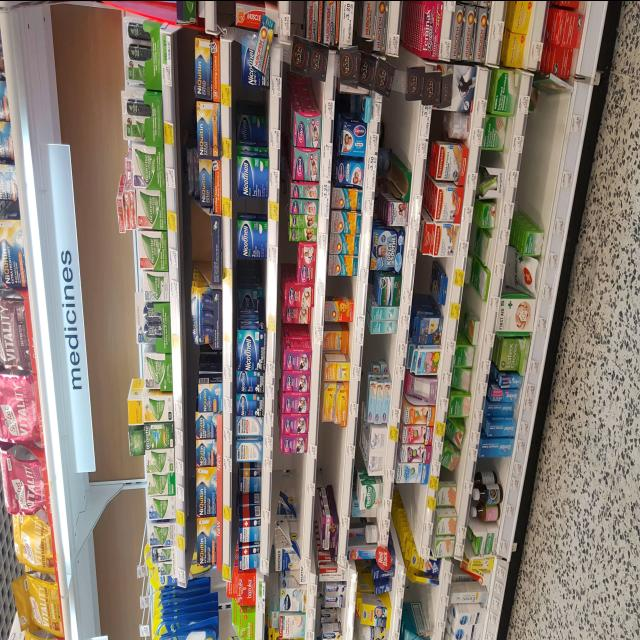empty_space: (529, 91, 559, 201), (379, 100, 413, 160), (319, 433, 341, 483), (238, 97, 272, 129), (191, 216, 209, 264), (394, 486, 420, 517), (279, 457, 301, 493), (241, 264, 263, 289)
